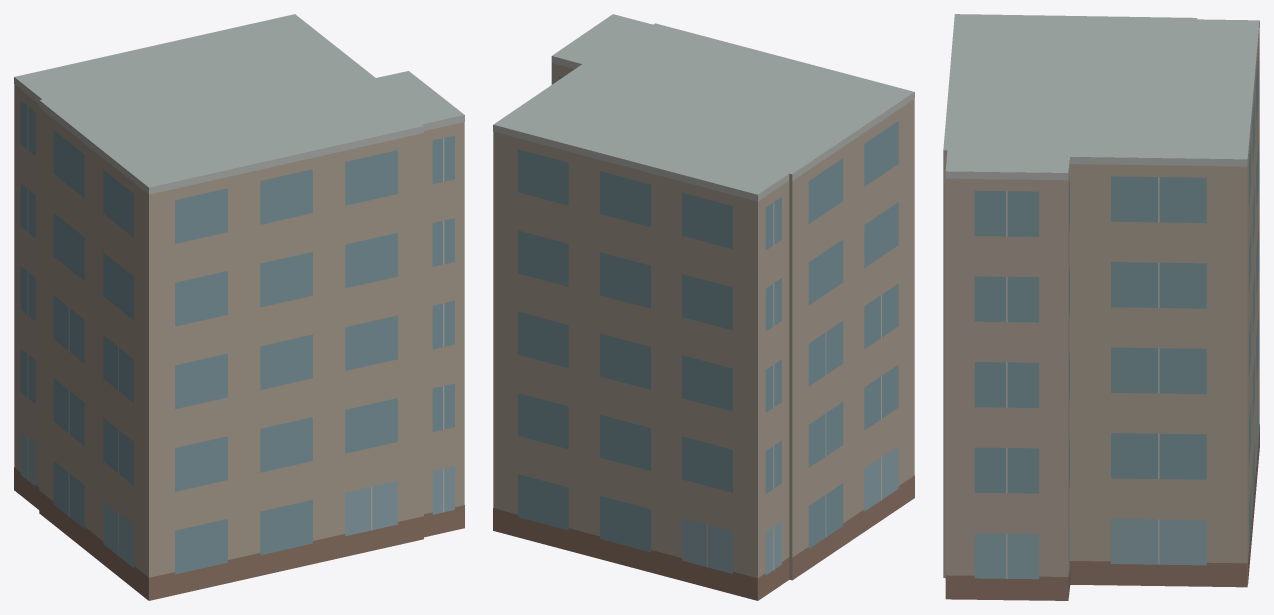
Rendered from survey-upis-32743138.glb.
The picture shows the model from 3 angles, left to right: view 1: azimuth 30°, elevation 25°; view 2: azimuth 150°, elevation 25°; view 3: azimuth 270°, elevation 25°; orthographic projection. The views are drawn at different scales.
Visible parts, largest first — view 1: survey-upis-32743138.tmp; view 2: survey-upis-32743138.tmp; view 3: survey-upis-32743138.tmp.
Boxes of the visible parts, x1,y1,x2,y2 form: survey-upis-32743138.tmp: (14, 14, 464, 600); survey-upis-32743138.tmp: (493, 14, 914, 600); survey-upis-32743138.tmp: (943, 14, 1259, 600).
Size of the model in its own units: 11.48 by 14.4 by 9.66.
